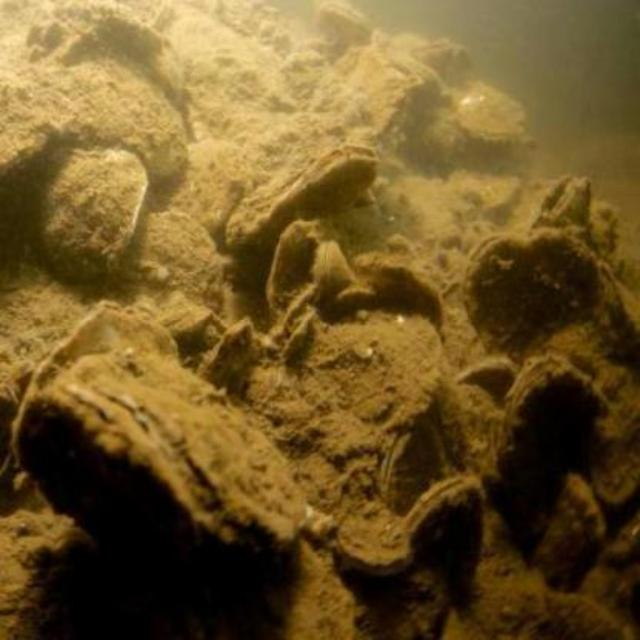Oyster-Closed: (17, 358, 309, 573), (462, 231, 638, 415), (275, 304, 443, 456), (490, 349, 610, 547), (25, 147, 151, 284), (224, 147, 377, 252), (56, 60, 189, 172), (25, 307, 182, 398), (116, 213, 223, 326), (401, 480, 484, 596), (346, 49, 418, 155), (195, 322, 278, 399), (339, 501, 414, 578), (0, 78, 54, 174), (447, 86, 524, 141), (376, 265, 450, 322), (310, 237, 363, 305), (419, 38, 472, 84), (314, 1, 368, 43)
Oyster-Open: (530, 170, 593, 231)
